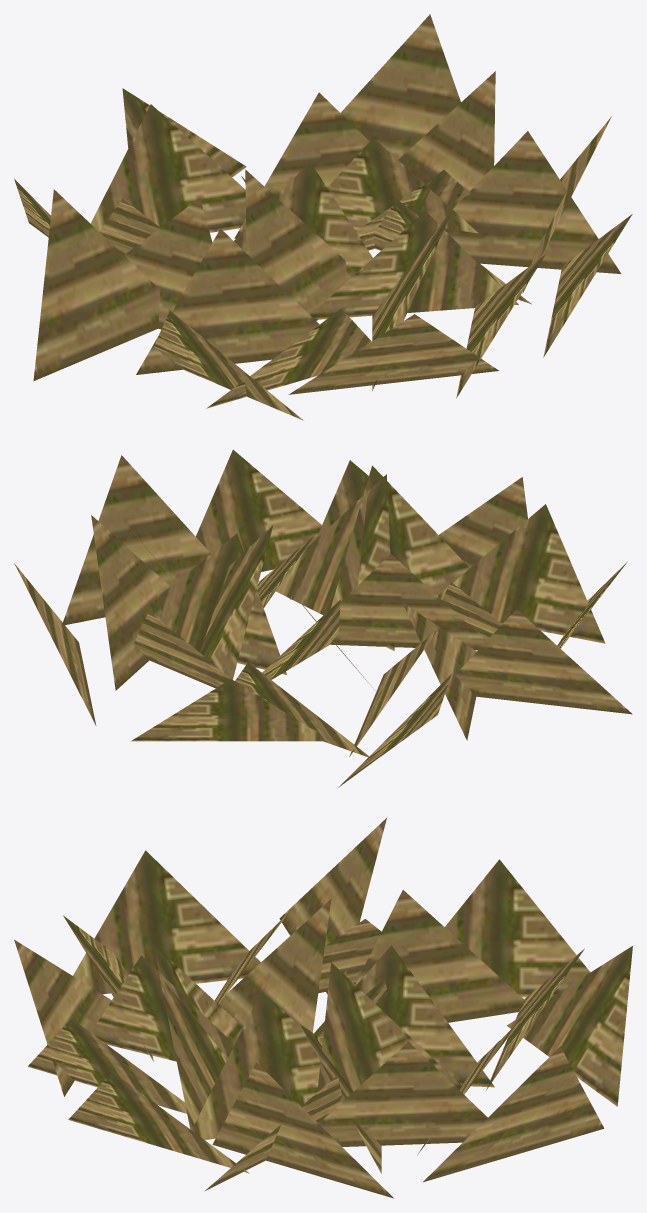
Rendered from dec_Ground_Grass_10_53714.glb.
3 renders of one model, top to bottom at view 1: azimuth 30°, elevation 25°; view 2: azimuth 150°, elevation 25°; view 3: azimuth 270°, elevation 25°, orthographic. The views are drawn at different scales.
Parts seen in each view (by area): view 1: Ground_Grass_10_mesh; view 2: Ground_Grass_10_mesh; view 3: Ground_Grass_10_mesh.
Part boxes in pixels (x1,y1,x2,y2): Ground_Grass_10_mesh: (14, 14, 632, 420); Ground_Grass_10_mesh: (14, 449, 632, 787); Ground_Grass_10_mesh: (14, 818, 632, 1198).
Bounding box in the file's own units: 1.14 × 0.2607 × 1.06.
1 material, 1 textured.
